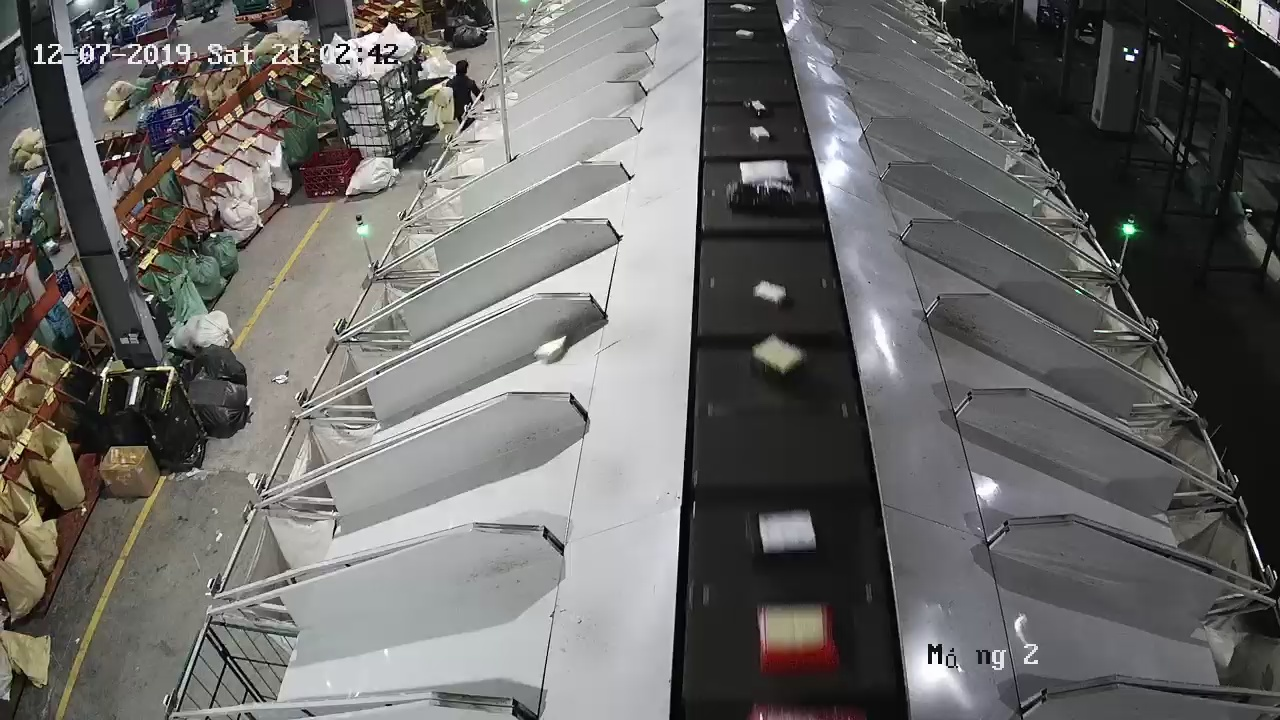parcel: (532, 335, 569, 363)
